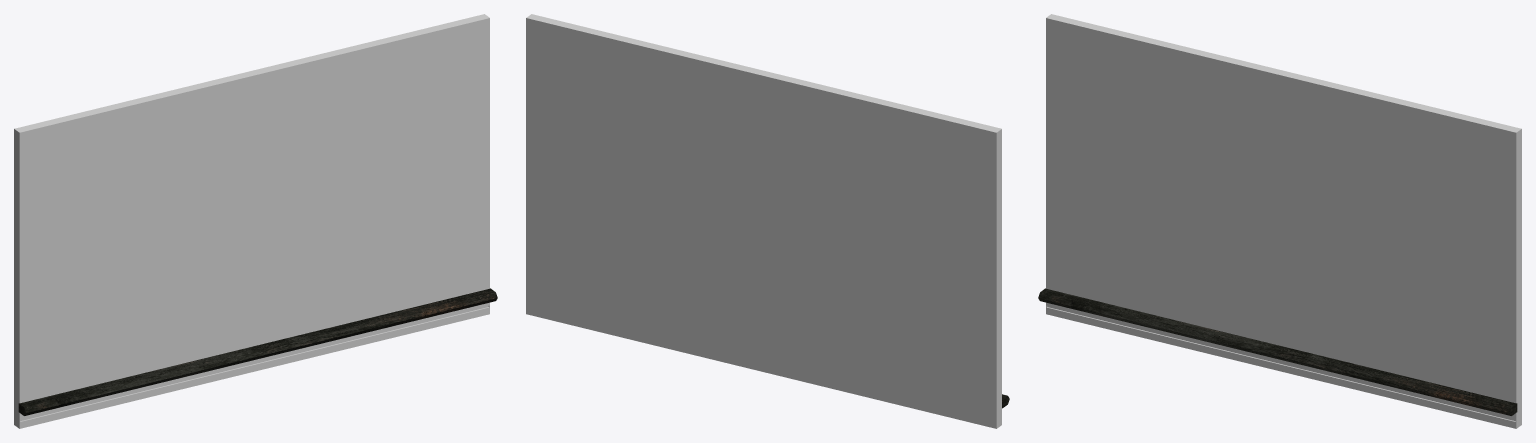
File: C_Wall_.fbx
3 views of the same model, side by side, from view 1: azimuth 30°, elevation 25°; view 2: azimuth 150°, elevation 25°; view 3: azimuth 330°, elevation 25° (orthographic).
Parts seen in each view (by area): view 1: C_Wall; view 2: C_Wall; view 3: C_Wall.
Boxes of the visible parts, x1,y1,x2,y2 form: C_Wall: (14, 14, 497, 428); C_Wall: (526, 14, 1009, 428); C_Wall: (1038, 14, 1521, 428).
Bounding box in the file's own units: 500 × 300 × 23.05.
